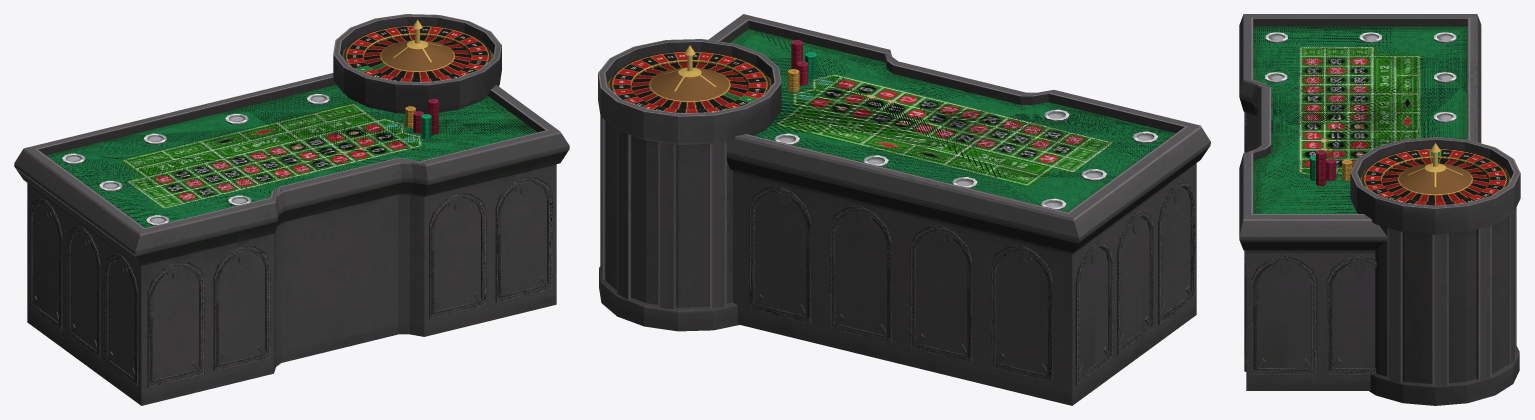
The model's file is SM_CasinoRoulette.fbx.
3 views of the same model, side by side, from view 1: azimuth 30°, elevation 25°; view 2: azimuth 150°, elevation 25°; view 3: azimuth 270°, elevation 25° (orthographic). The views are drawn at different scales.
Parts seen in each view (by area): view 1: Table.001, Table.002, Table.003, RouletteRotor, Table.006, Table; view 2: Table.001, Table.002, Table.003, RouletteRotor, Table.006, Table, Table.004; view 3: Table.002, Table.001, Table.003, RouletteRotor, Table.
Boxes of the visible parts, x1,y1,x2,y2 form: Table.001: (14,73,569,405); Table.002: (29,14,552,387); Table.003: (47,85,552,318); RouletteRotor: (344,20,490,82); Table.006: (29,199,270,386); Table: (62,94,330,225); Table.001: (708,14,1210,405); Table.002: (598,29,1194,384); Table.003: (744,30,1174,204); RouletteRotor: (610,45,769,113); Table.006: (910,180,1194,384); Table: (774,109,1158,209); Table.004: (749,187,891,342); Table.002: (1244,26,1520,405); Table.001: (1239,14,1481,390); Table.003: (1244,26,1466,374); RouletteRotor: (1362,143,1508,205); Table: (1265,32,1456,122).
Size of the model in its own units: 2.47 by 1.18 by 1.32.
4 materials, 4 textured.
